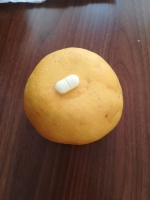Aferin: (54, 73, 81, 95)
